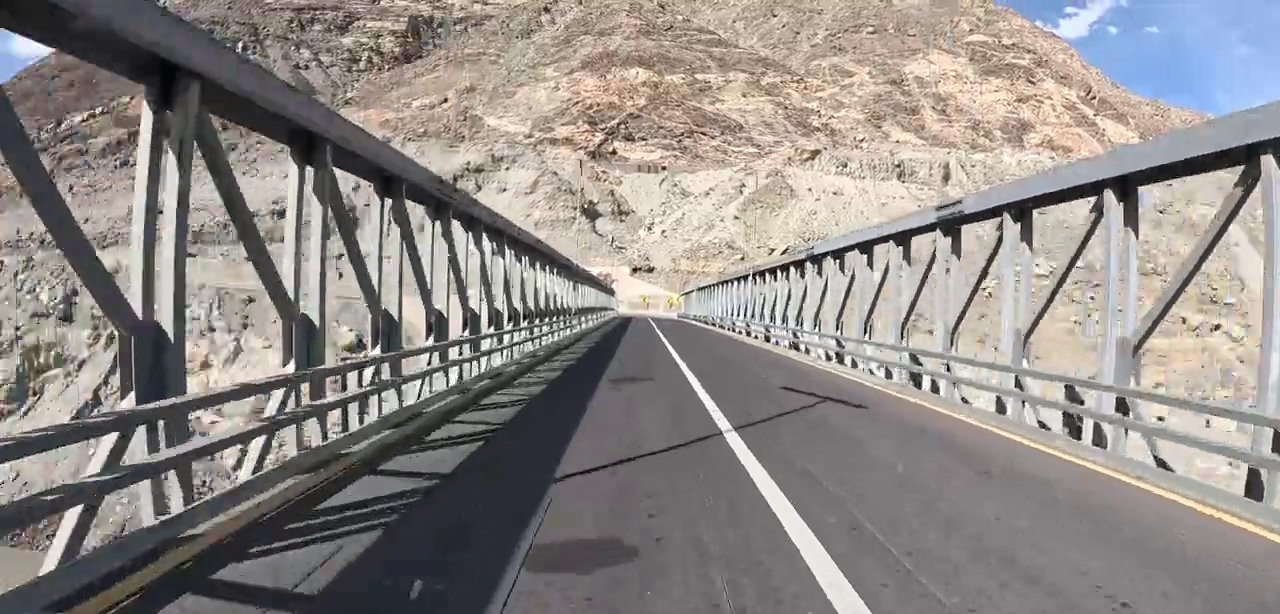left: (567, 311, 892, 572)
